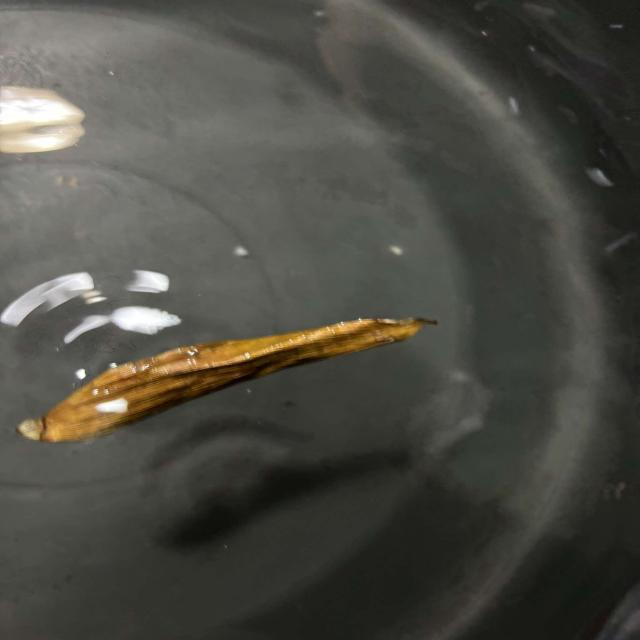Leaf: (17, 318, 436, 442)
